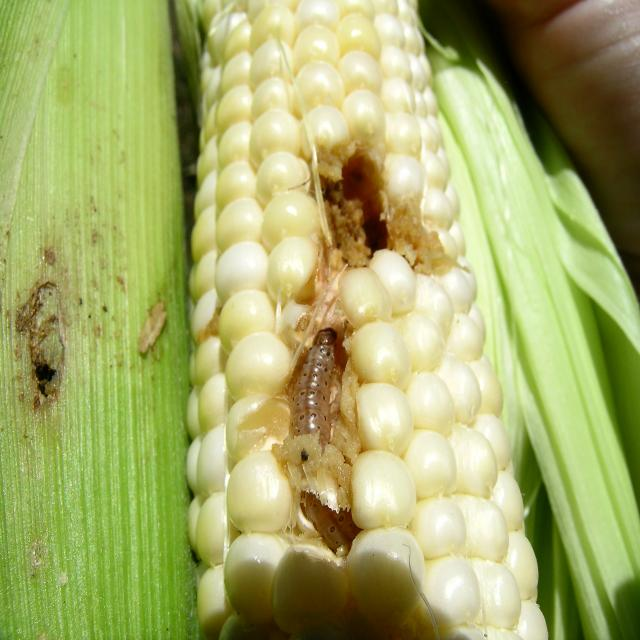cornborer-Larva-: (282, 321, 348, 464)
